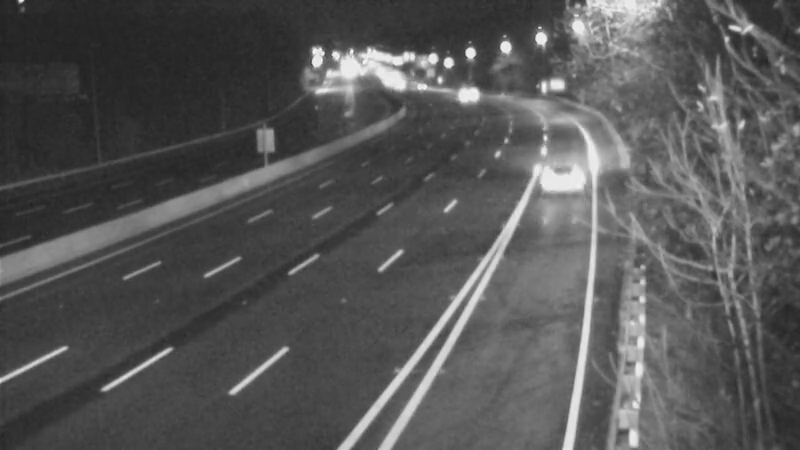vehicle: (512, 132, 592, 212), (392, 62, 442, 112), (437, 69, 487, 119)
